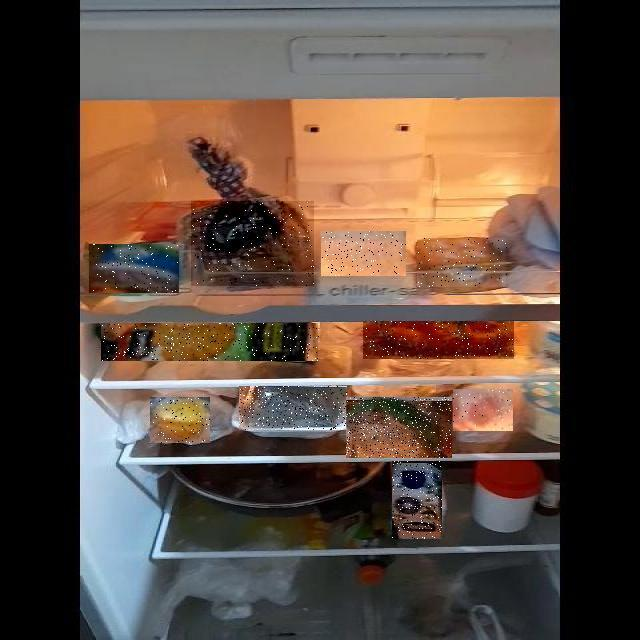Bread: (191, 201, 314, 286)
Broccoli: (239, 386, 347, 430)
Butter: (418, 238, 508, 287)
Carrot: (363, 321, 514, 359)
Cheese: (321, 231, 406, 276)
Chillies: (346, 397, 452, 458)
Juice: (102, 323, 320, 361)
Lemon: (150, 397, 210, 443)
Milk: (392, 461, 442, 539)
Tomato Paste: (453, 389, 513, 431)
Yoghurt: (89, 244, 179, 293)
